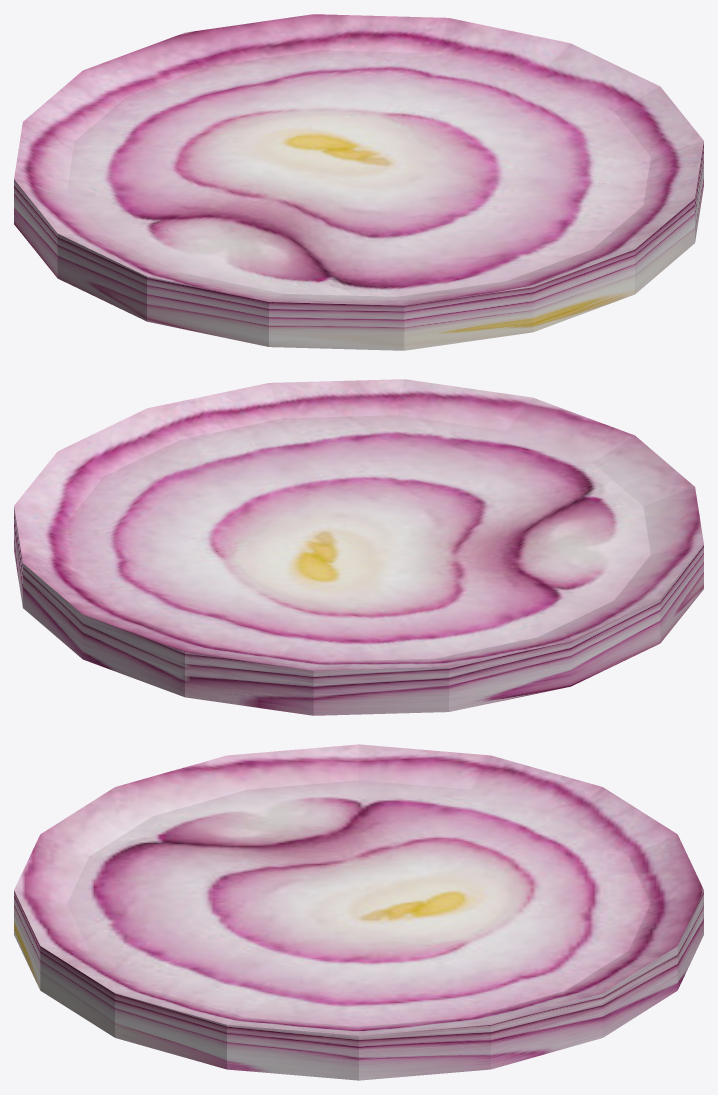
File: onion slice.fbx
The picture shows the model from 3 angles, top to bottom: view 1: azimuth 30°, elevation 25°; view 2: azimuth 150°, elevation 25°; view 3: azimuth 270°, elevation 25°; orthographic projection.
Parts seen in each view (by area): view 1: Cylinder; view 2: Cylinder; view 3: Cylinder.
Part boxes in pixels (bbox=[...]): Cylinder: bbox=[14, 14, 703, 350]; Cylinder: bbox=[14, 379, 703, 715]; Cylinder: bbox=[14, 744, 703, 1080].
Bounding box in the file's own units: 20.34 × 1.45 × 20.34.
